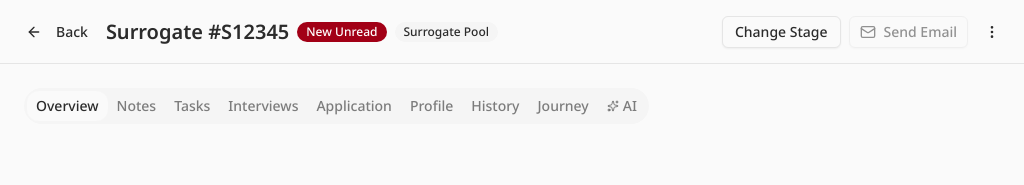
SurrogateDetailPage › keeps a V2 shared pool record collaborative instead of offering exclusive ownership (queue)
This screenshot has width=1024, height=185.
Expected: the button "Change Stage" is enabled, top-left (722, 16), bottom-right (840, 48)
Click the button named "More actions": (992, 32) top-left (976, 16), bottom-right (1008, 48)
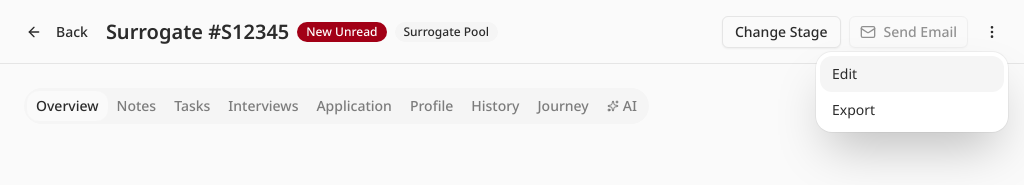
Expected: the text "Surrogate Pool" is shown, top-left (394, 22), bottom-right (498, 42)
Expected: the menu item "Edit" is enabled, top-left (820, 56), bottom-right (1004, 92)
